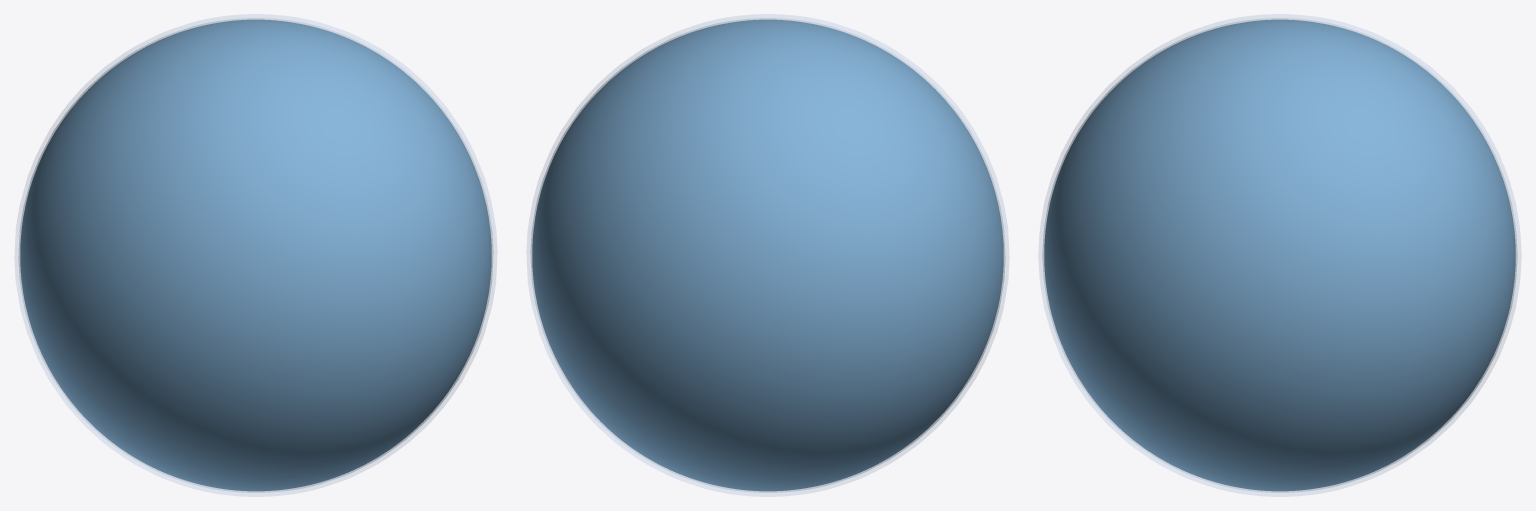
Rendered from planet.glb.
3 renders of one model, left to right at view 1: azimuth 30°, elevation 25°; view 2: azimuth 150°, elevation 25°; view 3: azimuth 270°, elevation 25°, orthographic.
Parts seen in each view (by area): view 1: clouds, earth, atmosphere; view 2: clouds, earth, atmosphere; view 3: clouds, earth, atmosphere.
Part boxes in pixels (x1=…): clouds: x1=18, y1=18, x2=493, y2=492; earth: x1=20, y1=19, x2=491, y2=491; atmosphere: x1=15, y1=14, x2=496, y2=496; clouds: x1=530, y1=18, x2=1005, y2=492; earth: x1=532, y1=19, x2=1003, y2=491; atmosphere: x1=527, y1=14, x2=1008, y2=496; clouds: x1=1042, y1=18, x2=1517, y2=492; earth: x1=1044, y1=19, x2=1515, y2=491; atmosphere: x1=1039, y1=14, x2=1520, y2=496.
Size of the model in its own units: 2.05 by 2.05 by 2.05.
